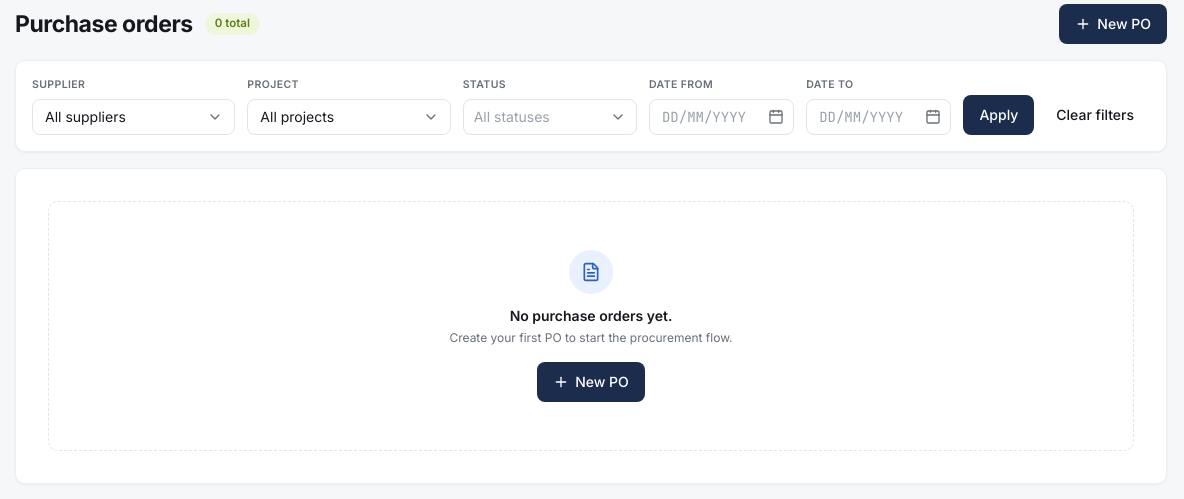
Scenario: PoListScreen (spec §4.list/§6) › shows the filtered empty state after applying a filter
Note: Status is a multi-select chip control: open it, tick APPROVED, then Apply.
What coordinates should you click on to do the following:
click the button with test id "po-filter-status-trigger"
I would click on:
 (550, 117)
Its box is [463,99,637,135].
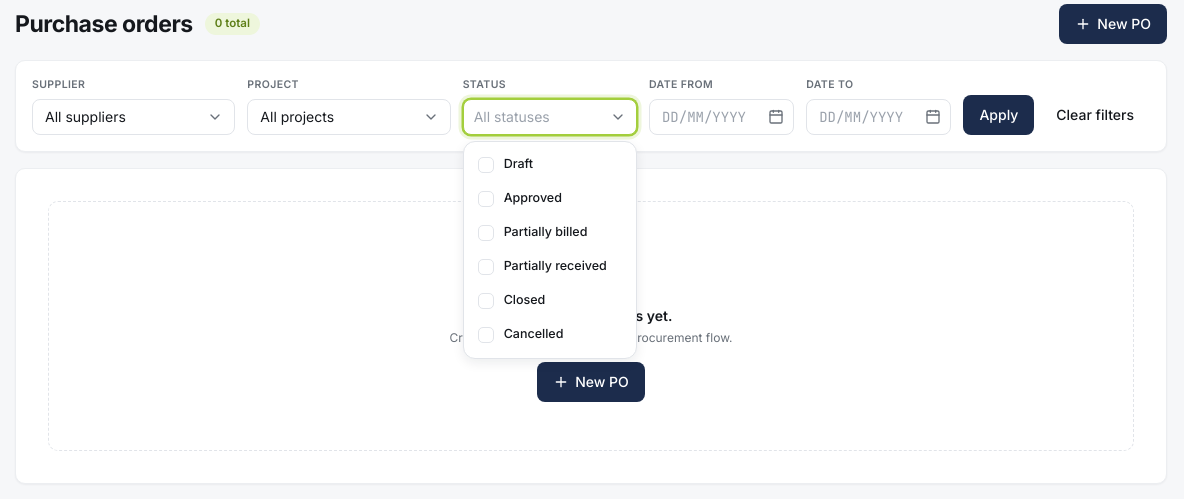
What coordinates should you click on to do the following:
click the checkbox with test id "po-filter-status-APPROVED"
I would click on:
 (550, 199)
Its box is [470,182,630,216].
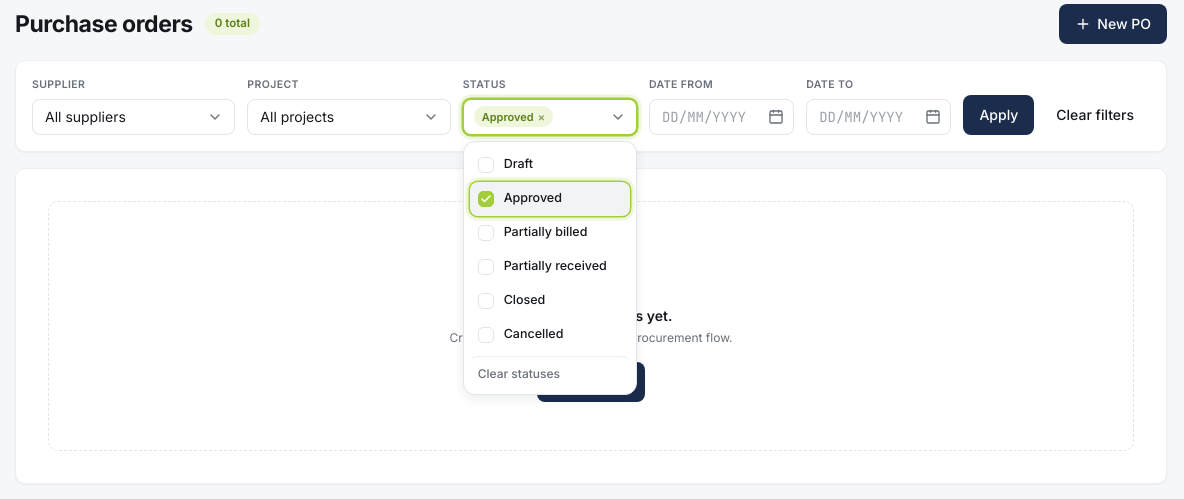
What coordinates should you click on to do the following:
click the button with test id "po-filter-apply"
I would click on:
 (999, 115)
Its box is [963,95,1034,135].
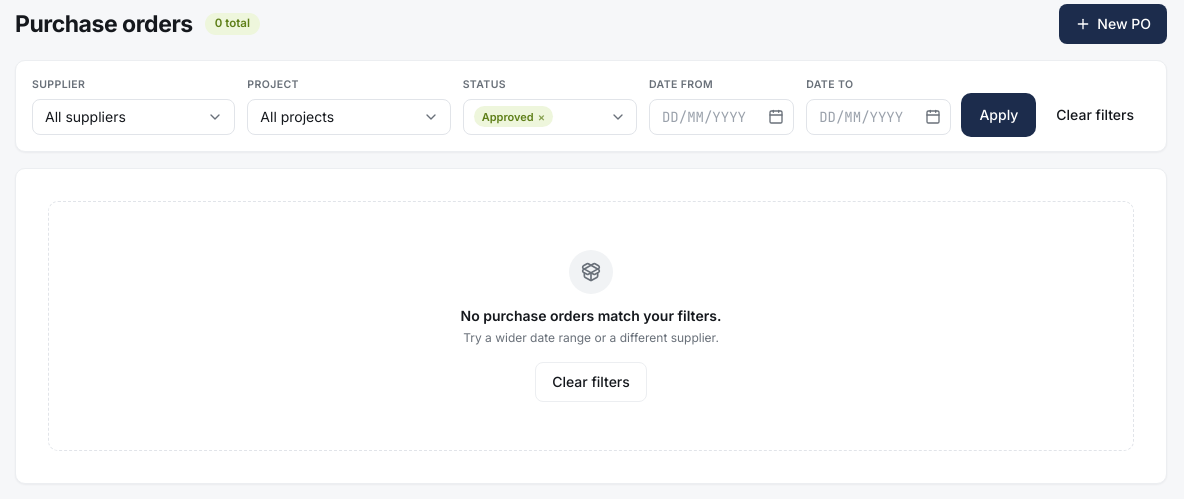
Check: the element with test id "po-empty-filtered" is shown
